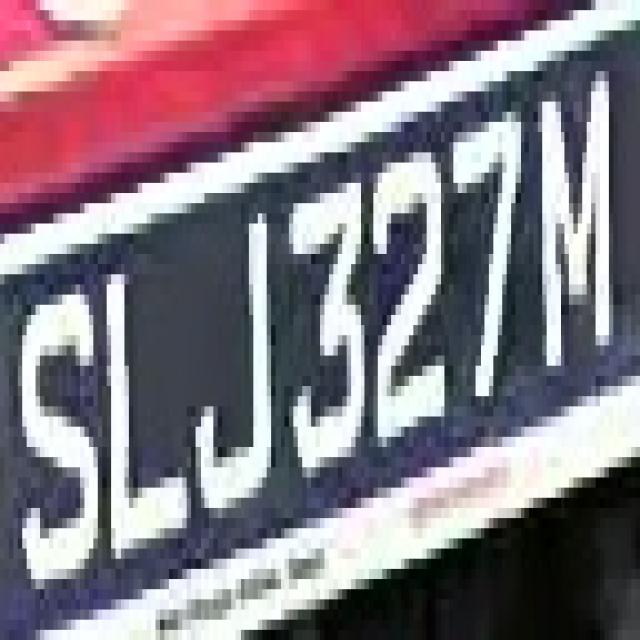2: (360, 142, 458, 457)
3: (289, 152, 369, 518)
7: (436, 71, 520, 437)
J: (187, 193, 289, 569)
L: (102, 224, 191, 579)
M: (529, 71, 627, 386)
S: (9, 264, 107, 589)
